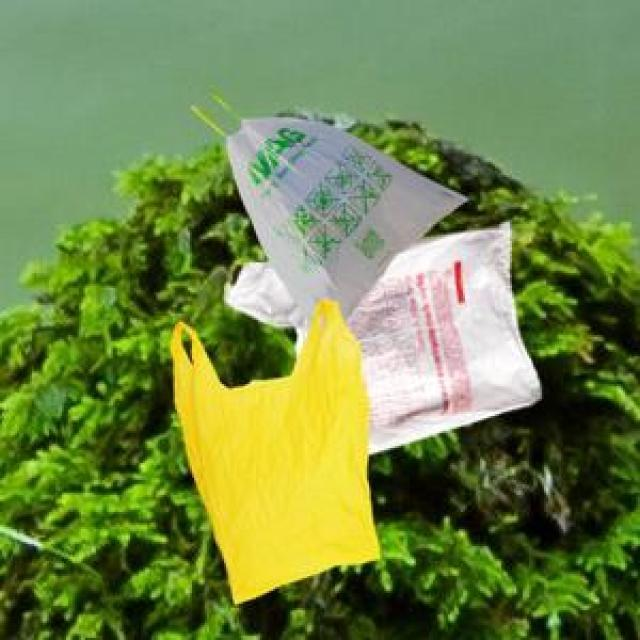waste: (171, 119, 541, 602)
